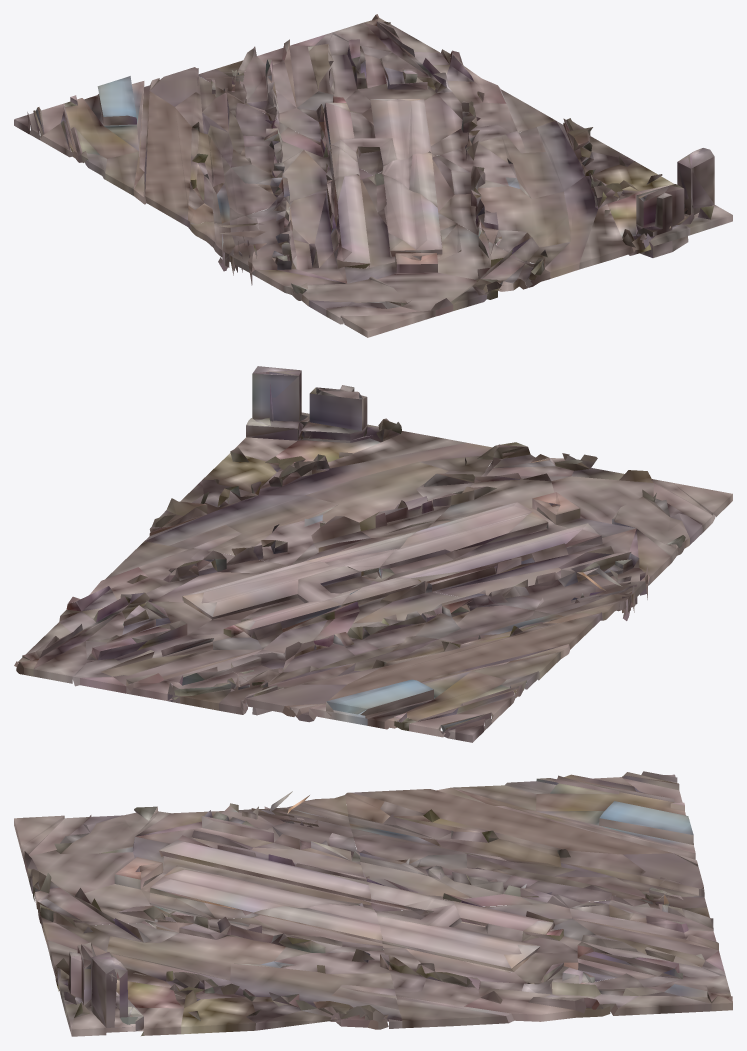
The picture shows the model from 3 angles, top to bottom: view 1: azimuth 30°, elevation 25°; view 2: azimuth 150°, elevation 25°; view 3: azimuth 270°, elevation 25°; orthographic projection. The views are drawn at different scales.
Parts seen in each view (by area): view 1: Mesh_0; view 2: Mesh_0; view 3: Mesh_0.
Part boxes in pixels (bbox=[...]): Mesh_0: bbox=[14, 14, 732, 337]; Mesh_0: bbox=[14, 366, 732, 742]; Mesh_0: bbox=[14, 771, 732, 1036].
Bounding box in the file's own units: 533 × 86.9 × 659.
Materials: 2 (2 with a texture image).
